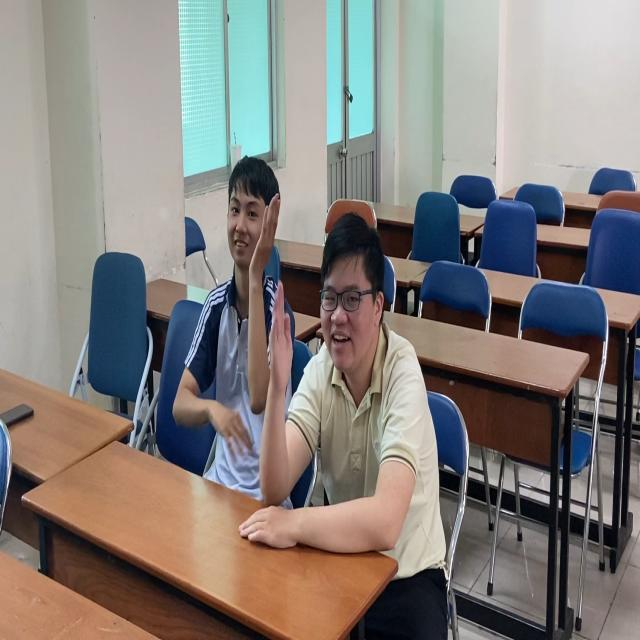raise_hand: (267, 209, 441, 567), (179, 143, 288, 495)
